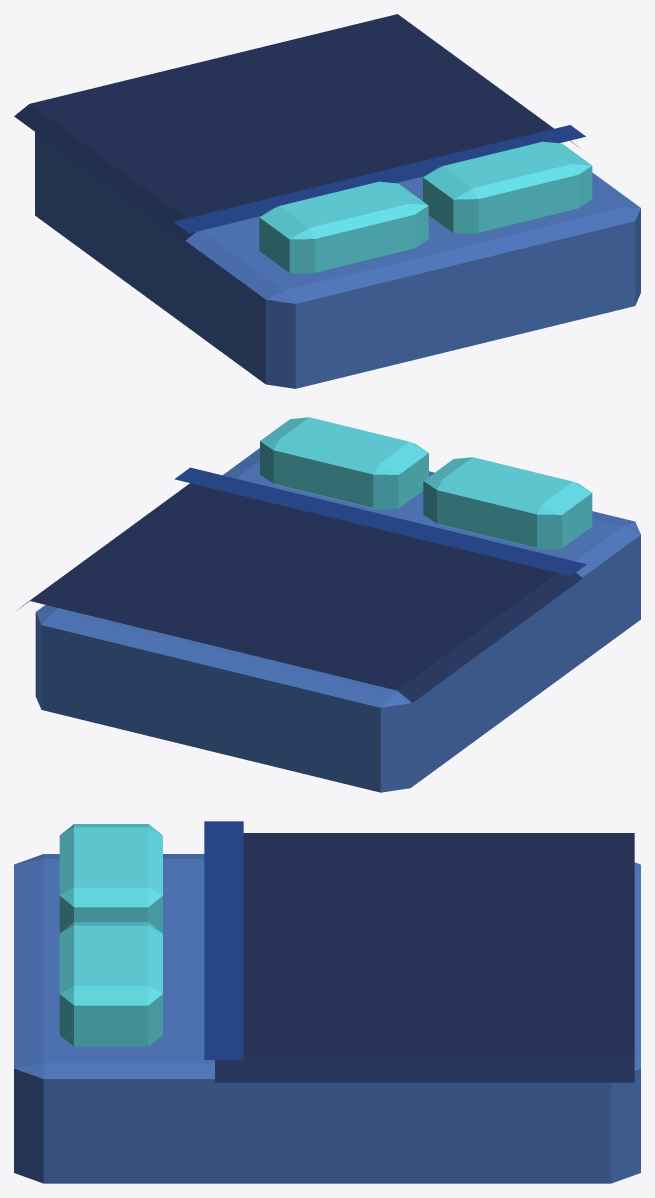
The model's file is doublebed.fbx.
3 views of the same model, one above another, from view 1: azimuth 30°, elevation 25°; view 2: azimuth 150°, elevation 25°; view 3: azimuth 270°, elevation 25° (orthographic). The views are drawn at different scales.
Visible parts, largest first — view 1: Cube, Plane, Cube.001, Plane.001; view 2: Cube, Plane, Cube.001, Plane.001; view 3: Plane, Cube, Cube.001, Plane.001.
Part boxes in pixels (left/top/right/bottom): Cube: left=35, top=132, right=640, bottom=388; Plane: left=14, top=14, right=577, bottom=241; Cube.001: left=259, top=141, right=592, bottom=274; Plane.001: left=173, top=125, right=585, bottom=233; Cube: left=35, top=448, right=640, bottom=792; Plane: left=19, top=483, right=582, bottom=702; Cube.001: left=260, top=417, right=592, bottom=549; Plane.001: left=174, top=467, right=586, bottom=575; Plane: left=215, top=833, right=634, bottom=1082; Cube: left=14, top=854, right=640, bottom=1183; Cube.001: left=59, top=824, right=162, bottom=1046; Plane.001: left=204, top=821, right=243, bottom=1059.
Size of the model in its own units: 860 by 284 by 952.
